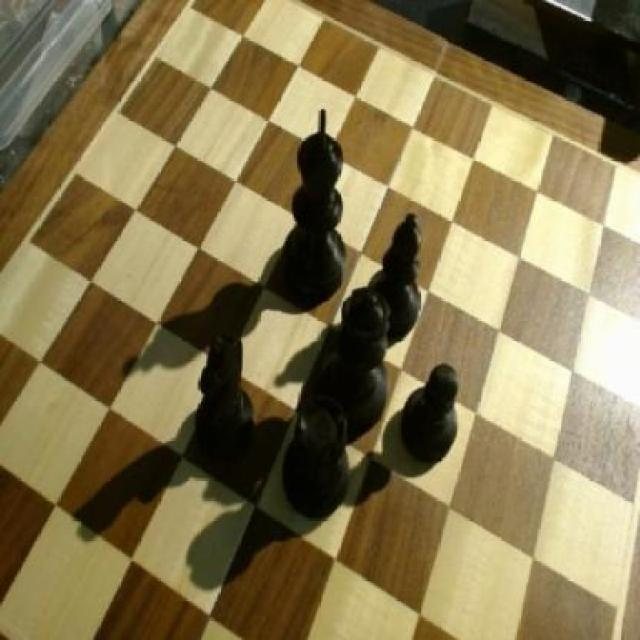bishop: (371, 206, 432, 338)
black-bishop: (278, 100, 354, 300)
black-king: (196, 322, 268, 470)
black-knight: (399, 358, 463, 462)
black-pawn: (323, 286, 397, 432)
black-queen: (279, 394, 363, 522)
